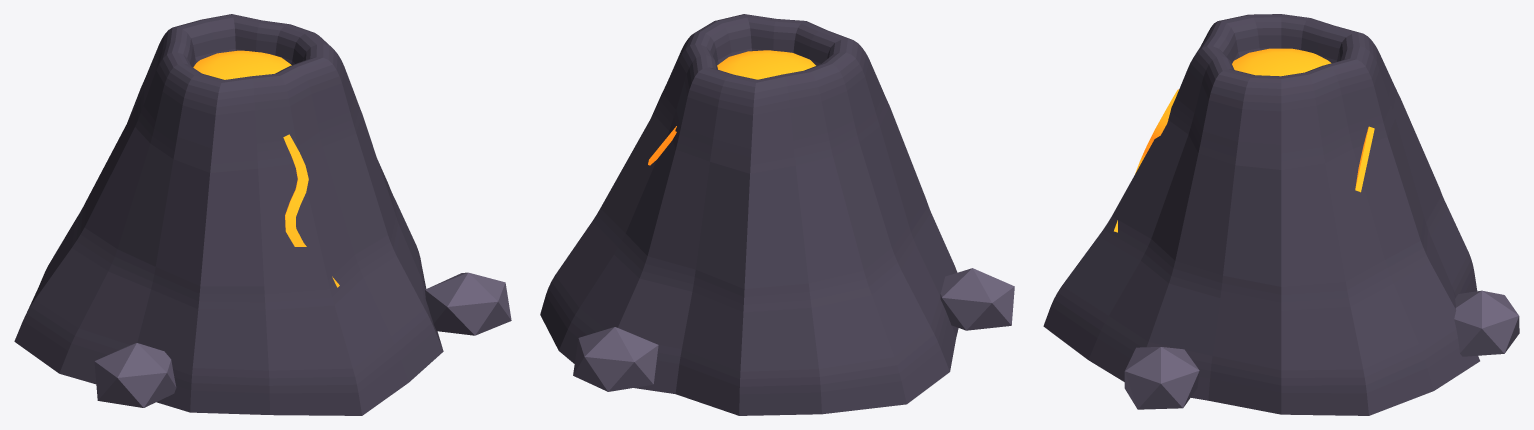
The model's file is smoke_vent.glb.
3 renders of one model, left to right at view 1: azimuth 30°, elevation 25°; view 2: azimuth 150°, elevation 25°; view 3: azimuth 270°, elevation 25°, orthographic.
Parts seen in each view (by area): view 1: smoke_vent; view 2: smoke_vent; view 3: smoke_vent.
Boxes of the visible parts, x1,y1,x2,y2 form: smoke_vent: (14, 14, 511, 415); smoke_vent: (540, 14, 1014, 415); smoke_vent: (1043, 14, 1519, 415).
Bounding box in the file's own units: 2.29 × 1.54 × 2.37.
